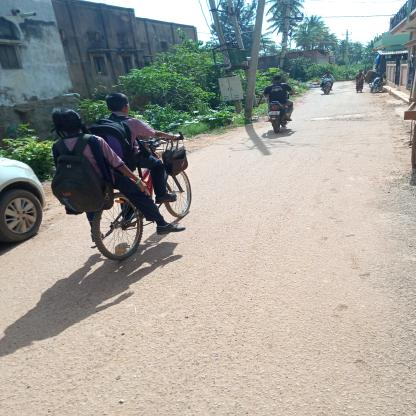bike: (40, 133, 251, 263)
